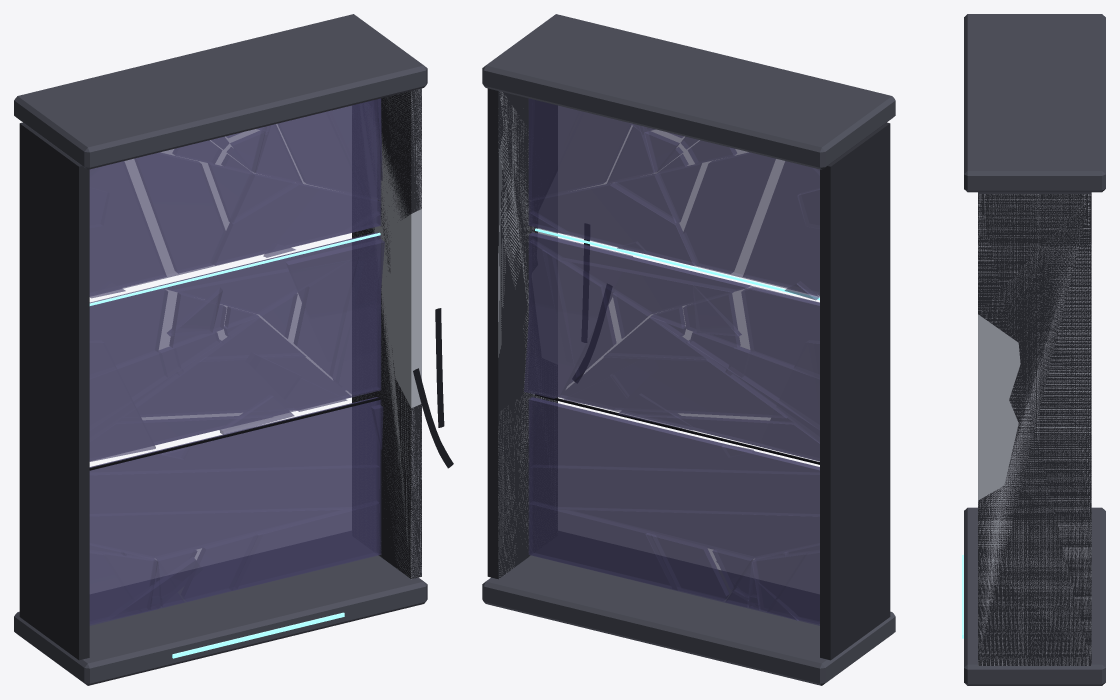
Rendered from mrd_cmp_phase_shield_b.glb.
3 renders of one model, left to right at view 1: azimuth 30°, elevation 25°; view 2: azimuth 150°, elevation 25°; view 3: azimuth 270°, elevation 25°, orthographic. The views are drawn at different scales.
Visible parts, largest first — view 1: mesh_light, mesh_intact, mesh_heavy; view 2: mesh_light, mesh_intact, mesh_heavy; view 3: mesh_heavy, mesh_intact, mesh_light.
Boxes of the visible parts, bbox=[...] form: mesh_light: bbox=[14, 98, 425, 684]; mesh_intact: bbox=[89, 88, 421, 625]; mesh_heavy: bbox=[14, 14, 453, 685]; mesh_light: bbox=[484, 99, 895, 684]; mesh_intact: bbox=[498, 92, 819, 625]; mesh_heavy: bbox=[482, 14, 895, 685]; mesh_heavy: bbox=[962, 14, 1105, 685]; mesh_intact: bbox=[978, 194, 1091, 665]; mesh_light: bbox=[964, 507, 1105, 685].
Bounding box in the file's own units: 0.8083 × 1.2 × 0.384.
